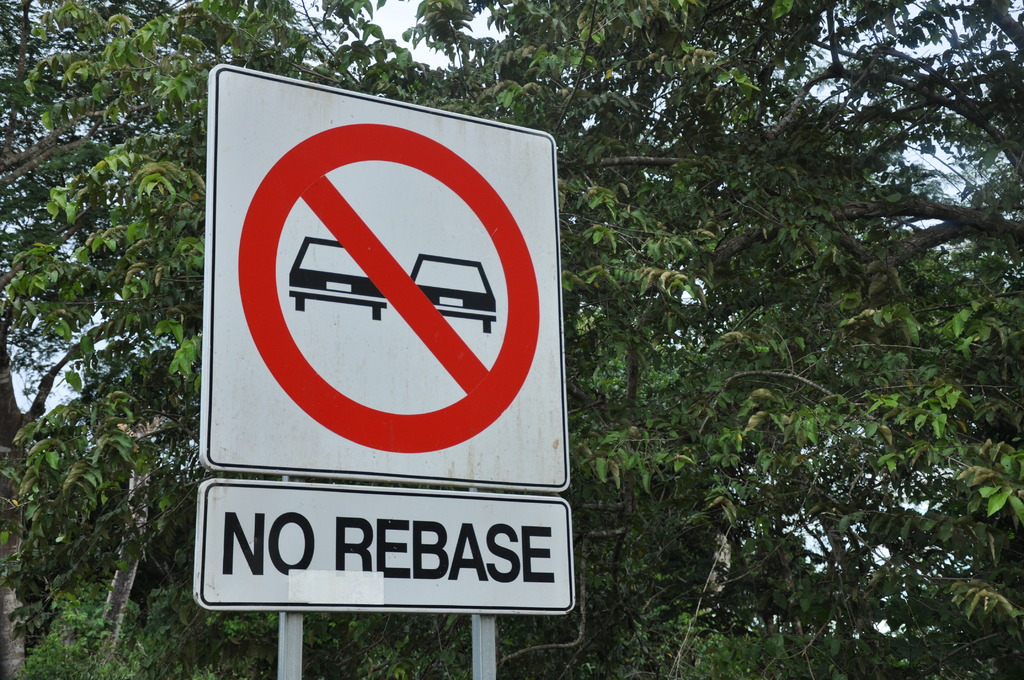red_light: (237, 111, 541, 457)
